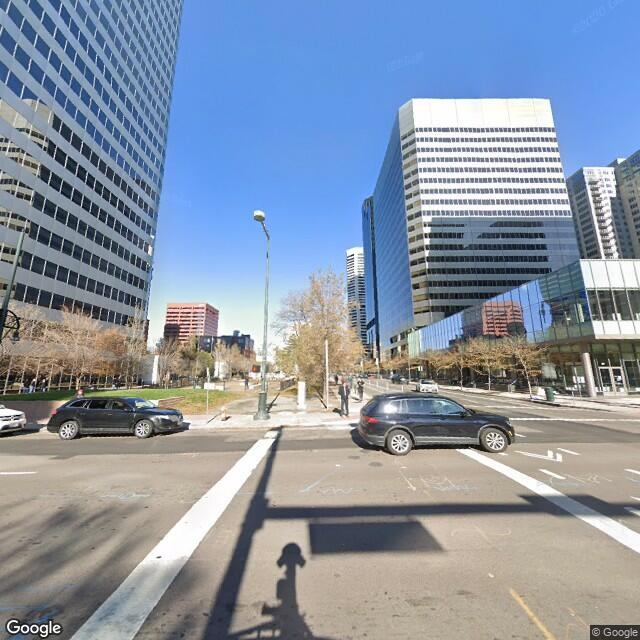lamp: (250, 207, 275, 418)
